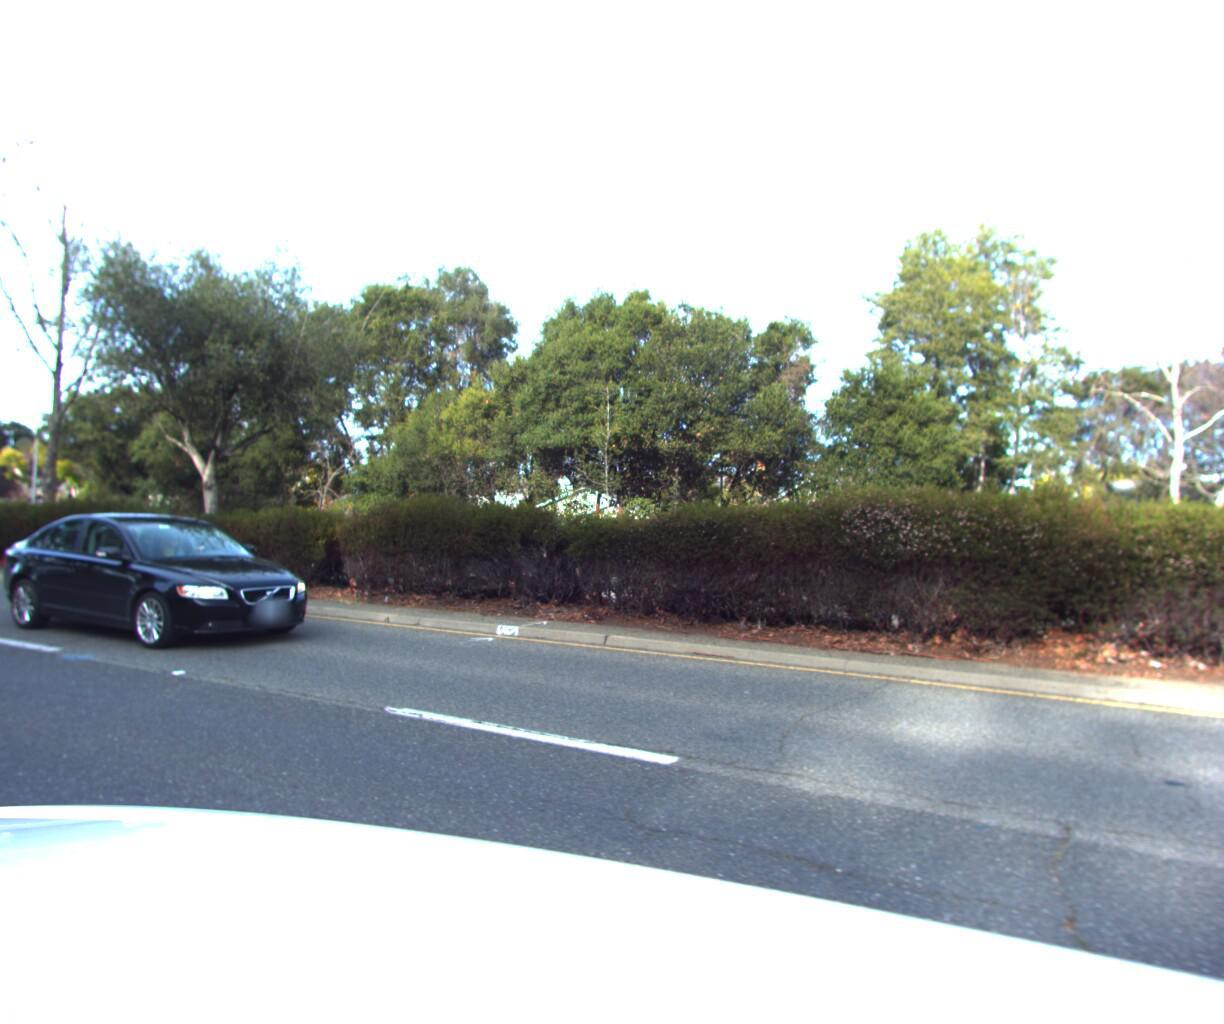car: (0, 504, 334, 654)
